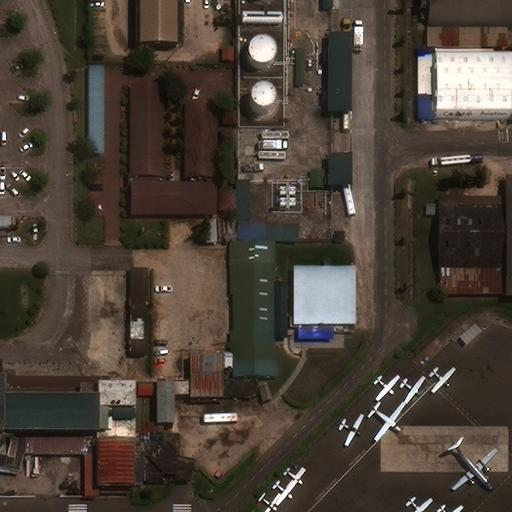Medium Civil Transport: (452, 443, 498, 491), (370, 403, 405, 441)
Small Civil Transport: (339, 415, 364, 446), (400, 377, 425, 403), (375, 377, 400, 401), (431, 369, 456, 393), (273, 482, 296, 506), (285, 469, 305, 489), (259, 495, 281, 511), (408, 498, 433, 511), (438, 506, 464, 511)
